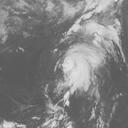cyclone: (54, 18, 123, 103)
